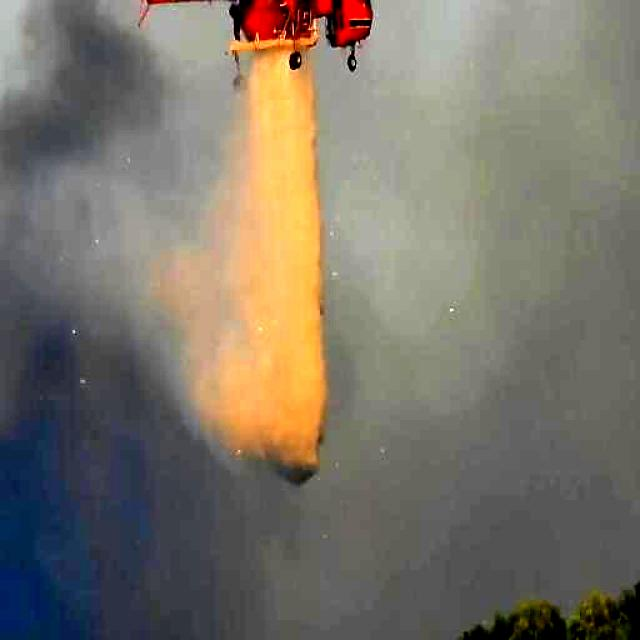drone: (84, 0, 422, 92)
